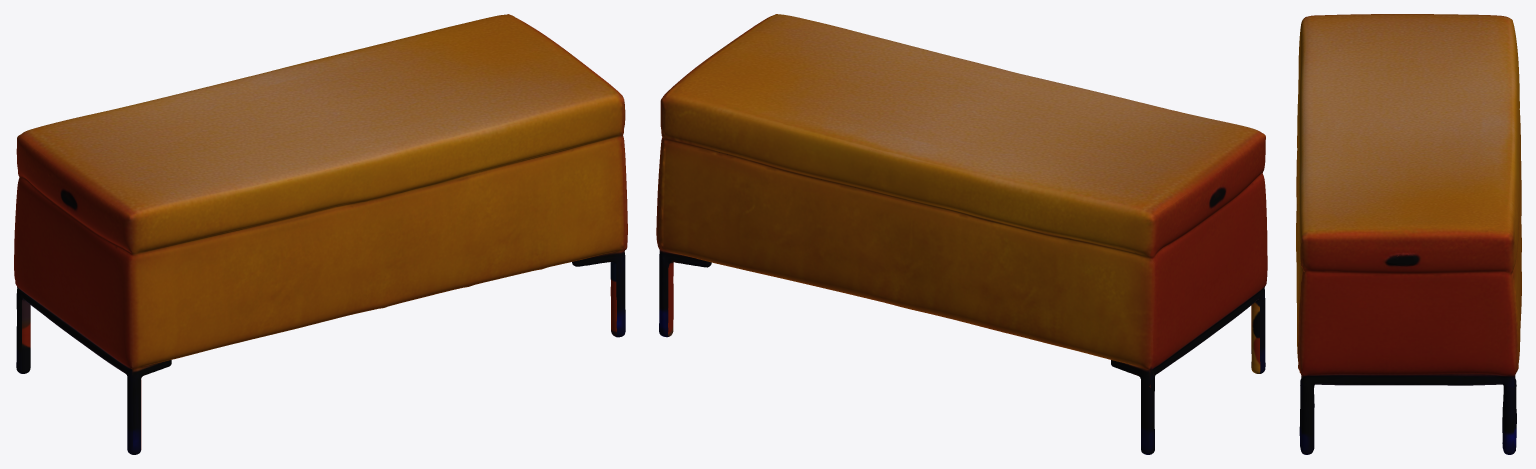
Rendered from product-bohemian-brionna-faux-leather-flip-top-storage-bench-03.glb.
3 renders of one model, left to right at view 1: azimuth 30°, elevation 25°; view 2: azimuth 150°, elevation 25°; view 3: azimuth 270°, elevation 25°, orthographic. The views are drawn at different scales.
Visible parts, largest first — view 1: geometry_0; view 2: geometry_0; view 3: geometry_0.
Part boxes in pixels (x1,y1,x2,y2): geometry_0: (14, 14, 627, 454); geometry_0: (656, 14, 1267, 454); geometry_0: (1296, 14, 1521, 454).
Size of the model in its own units: 1.98 by 0.9179 by 0.8343.
1 material, 1 textured.
